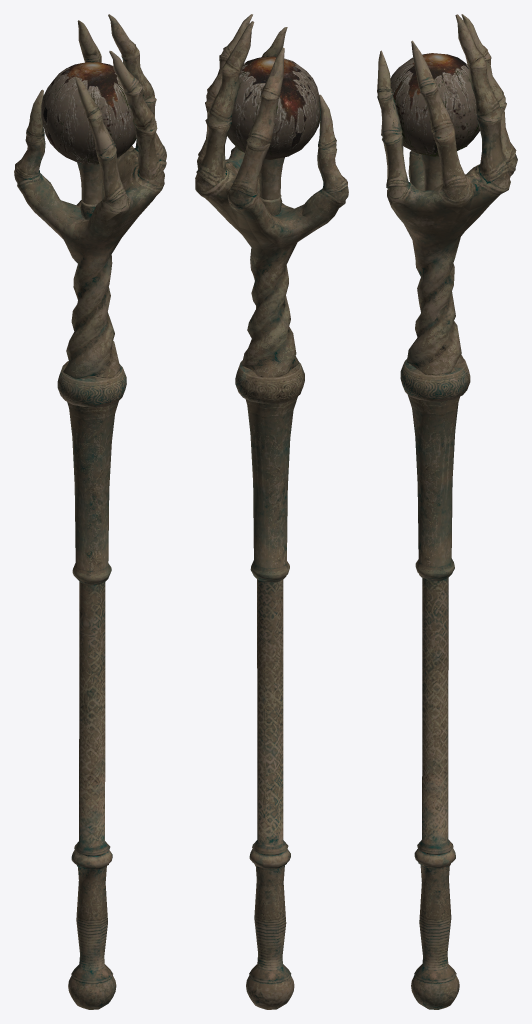
Rendered from so_pd_sotak.glb.
The picture shows the model from 3 angles, left to right: view 1: azimuth 30°, elevation 25°; view 2: azimuth 210°, elevation 25°; view 3: azimuth 330°, elevation 25°; orthographic projection.
Parts seen in each view (by area): view 1: ScepterOfTheAllKnowing; view 2: ScepterOfTheAllKnowing; view 3: ScepterOfTheAllKnowing.
Boxes of the visible parts, left/top/right/bottom form: ScepterOfTheAllKnowing: left=14, top=14, right=166, bottom=1009; ScepterOfTheAllKnowing: left=195, top=14, right=348, bottom=1009; ScepterOfTheAllKnowing: left=377, top=14, right=517, bottom=1009.
Size of the model in its own units: 9.66 by 74.23 by 9.47.
Materials: 1 (1 with a texture image).
